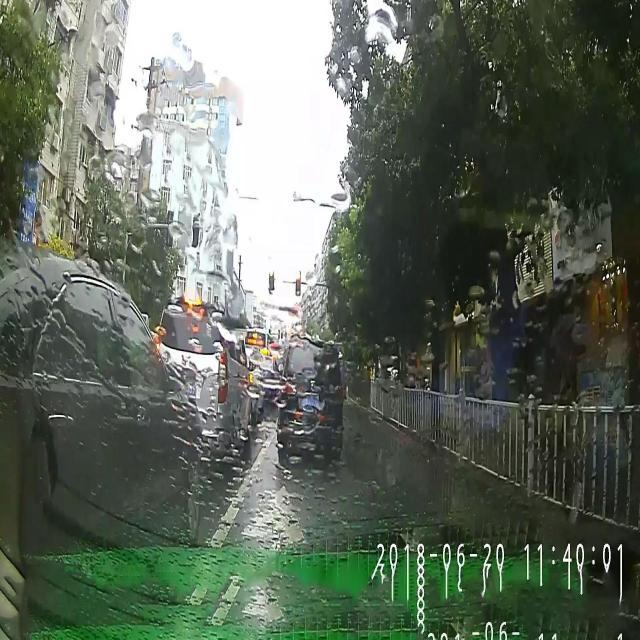car: (0, 255, 203, 567), (155, 298, 254, 472), (276, 334, 344, 466)
